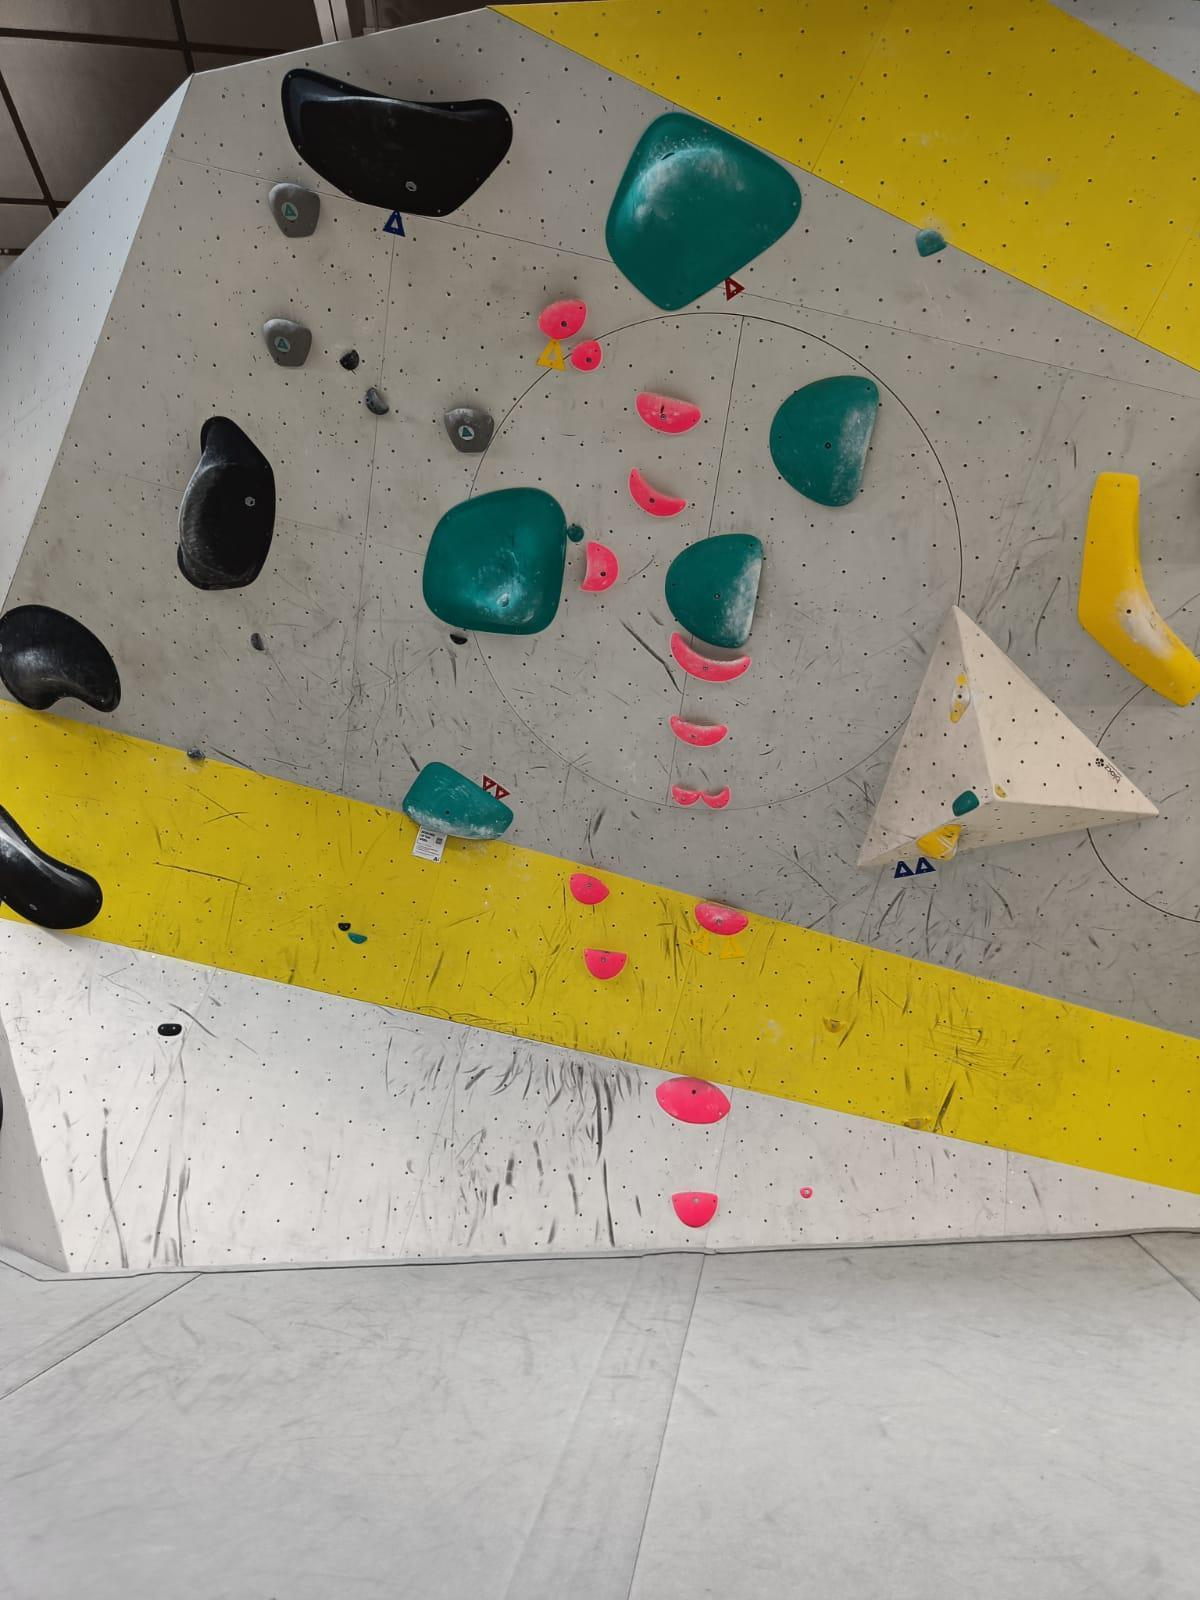hold: (605, 112, 802, 311), (281, 68, 513, 217), (1078, 471, 1200, 708), (421, 486, 567, 635), (176, 416, 276, 591), (769, 374, 880, 508), (0, 605, 121, 712), (0, 804, 102, 930), (664, 533, 764, 648), (402, 762, 513, 839), (671, 631, 751, 682), (655, 1077, 731, 1124), (629, 467, 688, 518), (268, 183, 321, 238), (635, 392, 702, 433), (262, 317, 313, 368), (444, 407, 494, 452), (537, 299, 589, 340), (579, 540, 619, 592), (669, 714, 729, 746), (916, 824, 963, 862), (695, 903, 749, 935), (672, 1192, 718, 1227), (584, 949, 628, 980), (570, 873, 610, 905), (949, 673, 971, 723), (570, 339, 603, 372), (915, 228, 948, 257), (952, 790, 979, 816), (364, 387, 389, 416), (702, 785, 730, 809), (672, 784, 702, 805), (339, 349, 361, 370), (567, 524, 585, 542), (187, 745, 207, 760), (251, 632, 266, 651), (158, 1024, 182, 1036), (348, 932, 368, 944), (449, 634, 468, 645), (995, 784, 1007, 799), (799, 1186, 813, 1198), (338, 922, 350, 931)
volume: (856, 605, 1160, 868)
